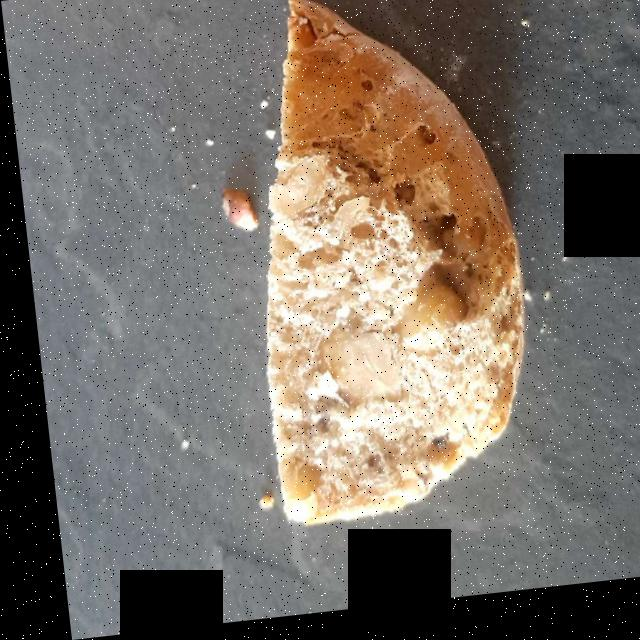bread-nut: (253, 2, 512, 524)
